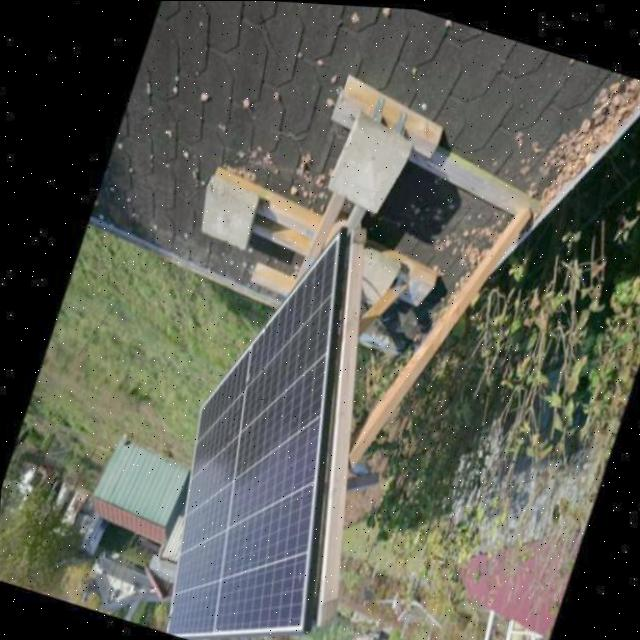Normal Solar Panel: (126, 201, 416, 640)
